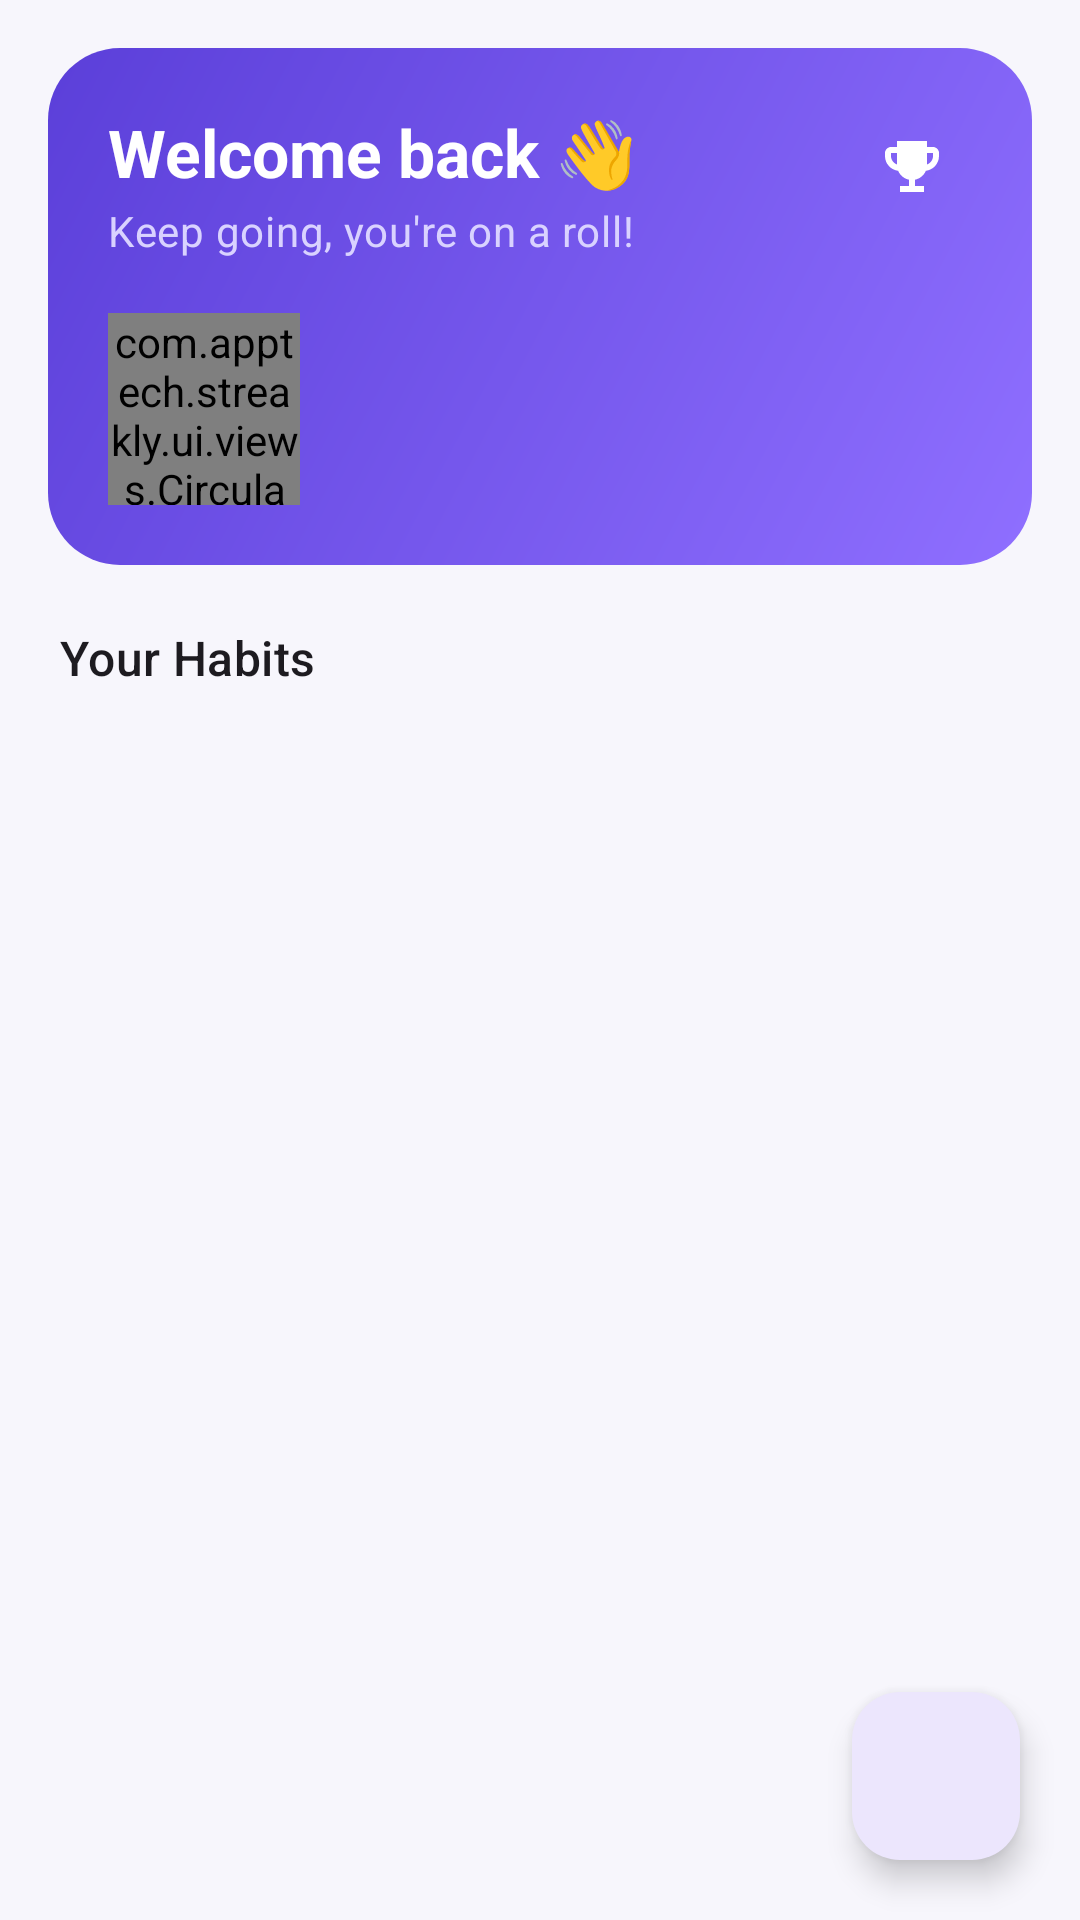

Screen size 1080w x 1920h. Icon name, then its center in pixels as point (x, y):
Streaks & Awards: point (912, 166)
